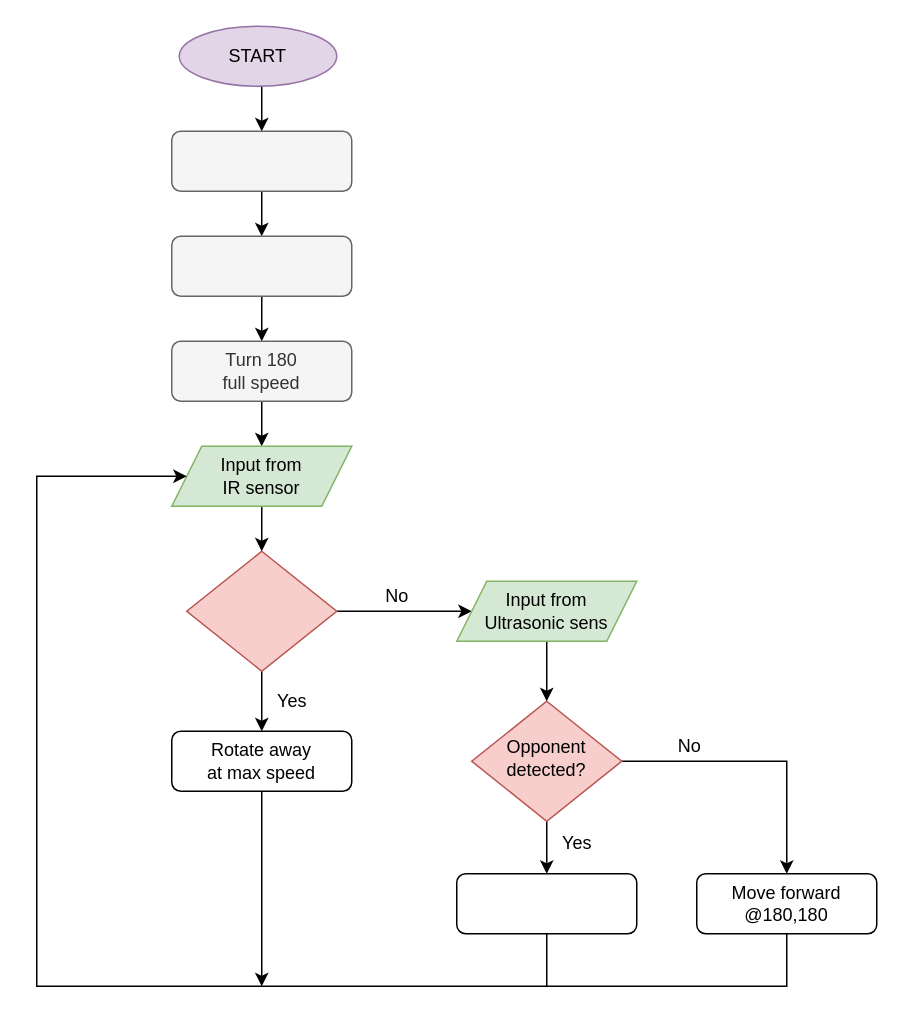
Some shapes in this 903 by 1025 pixel diagram are drawn without their labels. The centre of each missing label's shape, as x and y in pixels:
3s pause: the point at 261,160
Black line detected?: the point at 261,610
Charge at max speed: the point at 546,903
Foward 0.75s full speed: the point at 261,265
